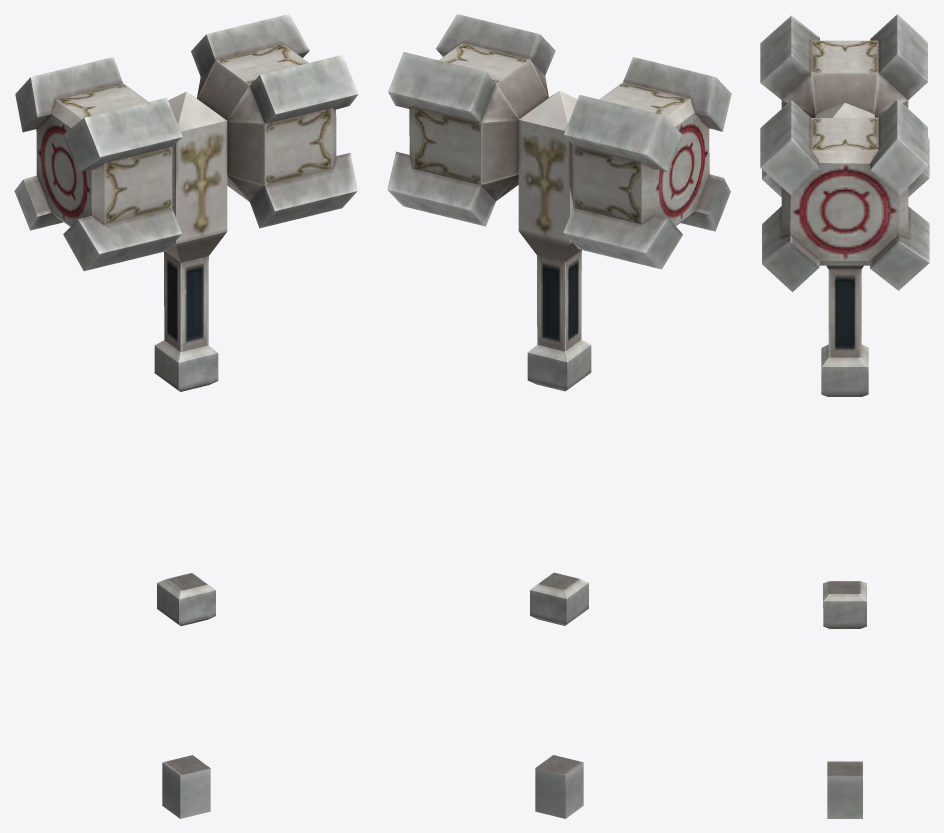
Rendered from Bison_havocHammer.obj.
3 views of the same model, side by side, from view 1: azimuth 30°, elevation 25°; view 2: azimuth 150°, elevation 25°; view 3: azimuth 270°, elevation 25° (orthographic).
Visible parts, largest first — view 1: Bison_havocHammer_tri; view 2: Bison_havocHammer_tri; view 3: Bison_havocHammer_tri.
Boxes of the visible parts, x1,y1,x2,y2 form: Bison_havocHammer_tri: [14, 14, 358, 818]; Bison_havocHammer_tri: [387, 14, 731, 818]; Bison_havocHammer_tri: [760, 14, 929, 818].
Size of the model in its own units: 1.66 by 4.34 by 0.904.
Materials: 1 (1 with a texture image).
